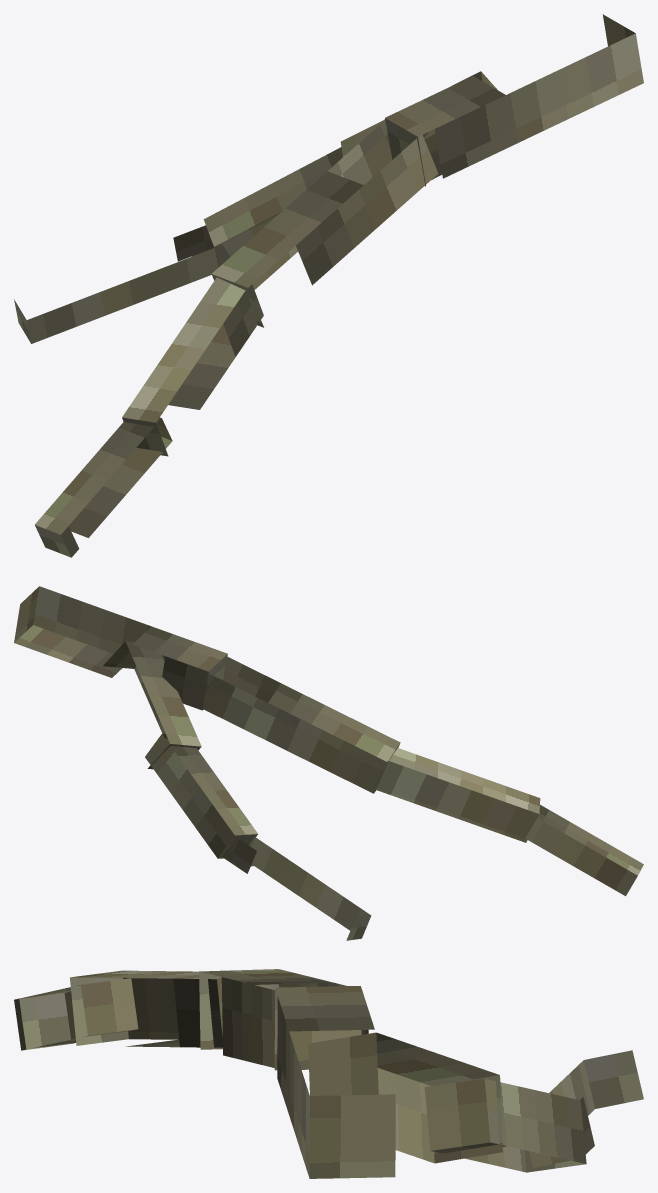
Rendered from beech_twig_branch.obj.
3 renders of one model, top to bottom at view 1: azimuth 30°, elevation 25°; view 2: azimuth 150°, elevation 25°; view 3: azimuth 270°, elevation 25°, orthographic. The views are drawn at different scales.
Parts seen in each view (by area): view 1: cube; view 2: cube; view 3: cube.
Part boxes in pixels (x1,y1,x2,y2): cube: (14,14,643,557); cube: (14,586,643,940); cube: (14,969,643,1178).
Size of the model in its own units: 3.21 by 1.29 by 1.7.
